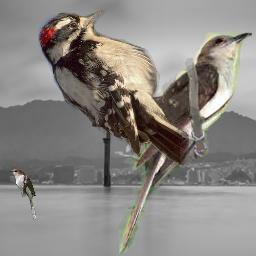Cuckoo: (119, 31, 252, 255), (8, 168, 36, 220)
Woodpecker: (38, 10, 189, 165)
